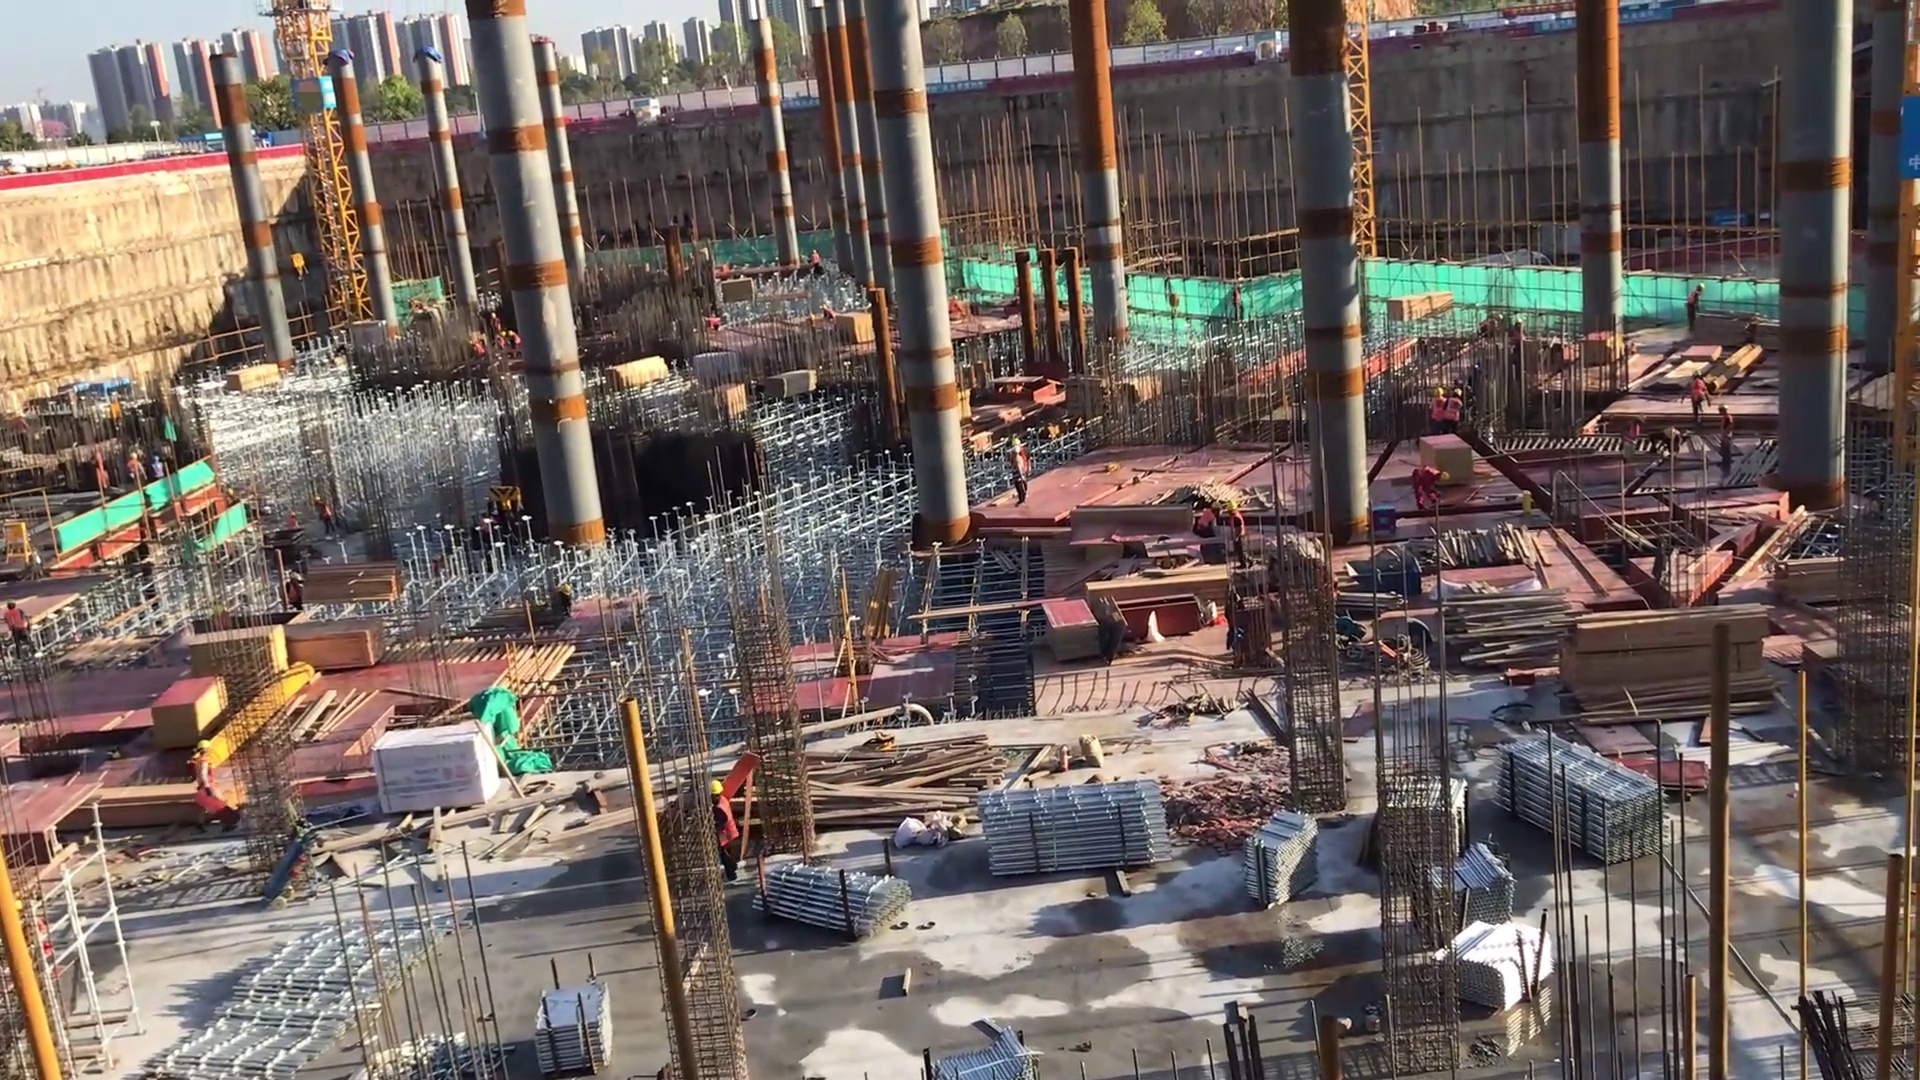board: (185, 625, 288, 702), (151, 665, 232, 755), (1602, 753, 1709, 802), (1036, 599, 1106, 667), (837, 310, 876, 346)
ebox: (1, 512, 34, 573)
helmet: (708, 773, 727, 802), (195, 739, 214, 754), (1717, 402, 1733, 418), (284, 571, 303, 583), (1208, 500, 1222, 514), (1440, 467, 1451, 486), (1226, 499, 1240, 514), (127, 450, 141, 463), (6, 597, 20, 612), (1011, 436, 1024, 448), (1013, 444, 1024, 457), (1431, 385, 1444, 397), (1691, 370, 1703, 382), (1694, 281, 1706, 293), (1452, 385, 1462, 398)
hook: (1352, 549, 1423, 606)
person: (186, 737, 233, 836), (704, 774, 741, 890), (1, 593, 41, 686), (1408, 466, 1452, 510), (1226, 498, 1251, 575), (1717, 397, 1739, 478), (1684, 366, 1710, 431), (280, 572, 314, 618), (1006, 449, 1030, 510), (1009, 434, 1032, 496), (307, 497, 339, 538), (1426, 387, 1450, 438), (1686, 276, 1706, 333), (1195, 504, 1220, 546), (1446, 385, 1465, 432), (127, 451, 146, 490), (149, 457, 167, 489), (470, 336, 488, 368), (505, 324, 519, 351), (495, 332, 505, 354), (490, 310, 499, 334)
scaffold: (1488, 722, 1673, 888), (967, 772, 1194, 882), (755, 863, 906, 938), (1243, 795, 1324, 913), (1426, 843, 1513, 940), (924, 1028, 1033, 1077)
slogan: (1533, 1, 1668, 32), (922, 73, 993, 98), (777, 96, 823, 121)
vest: (710, 795, 741, 850), (195, 757, 219, 799), (4, 609, 30, 635), (1414, 464, 1439, 491), (1197, 505, 1217, 536), (1430, 396, 1446, 429), (1229, 512, 1245, 544), (1690, 379, 1708, 409), (1447, 396, 1463, 426), (150, 462, 164, 479)
wood: (1565, 597, 1776, 722), (814, 732, 1006, 830), (1442, 585, 1592, 672), (1082, 567, 1237, 627), (82, 779, 215, 845), (1769, 548, 1919, 607), (283, 619, 382, 676), (298, 558, 405, 605), (226, 359, 288, 413), (605, 351, 673, 397), (1385, 291, 1457, 325), (759, 366, 822, 405)
